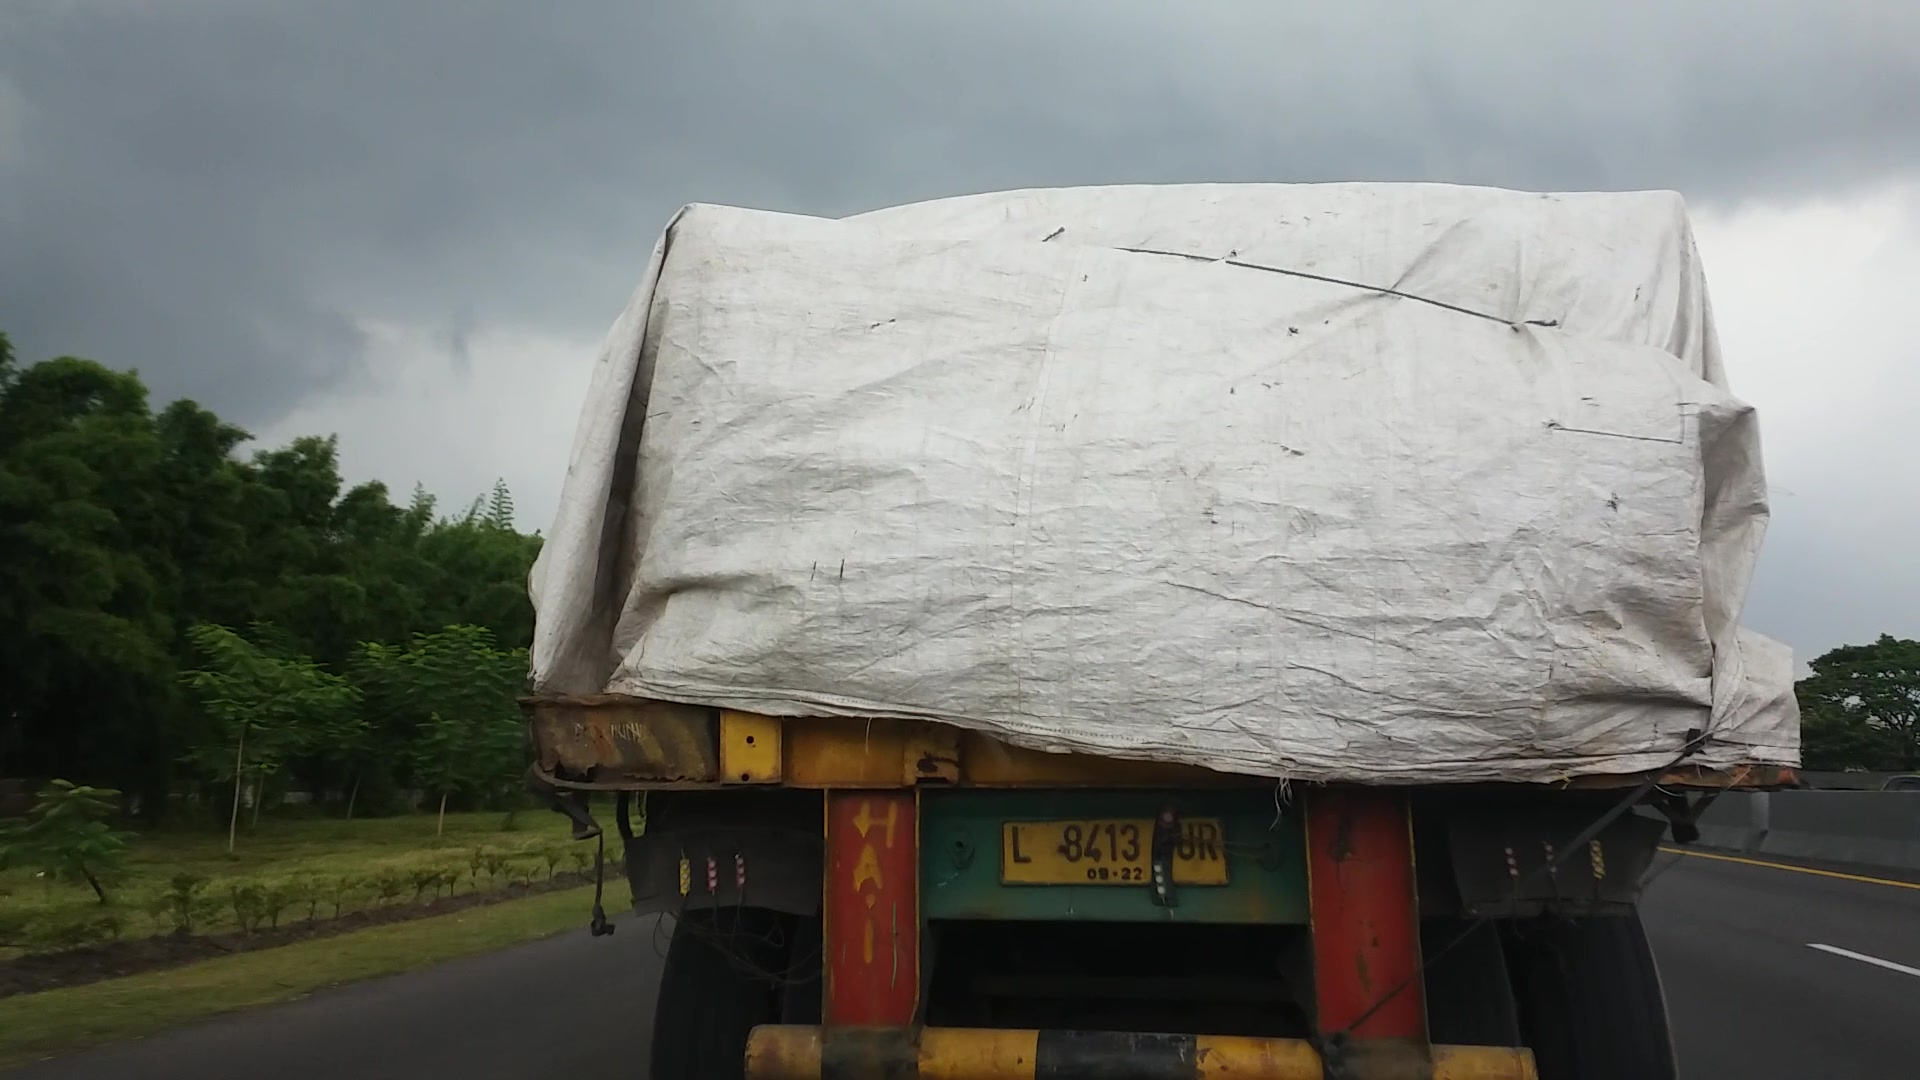plate_positive: (1000, 818, 1226, 885)
